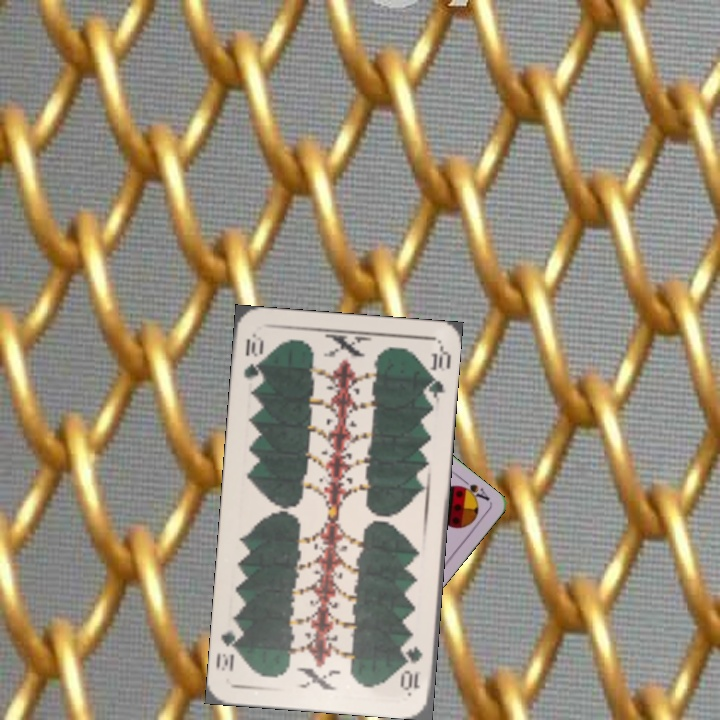G10: (240, 331, 267, 381), (399, 642, 425, 693)
SA: (454, 474, 492, 505)
